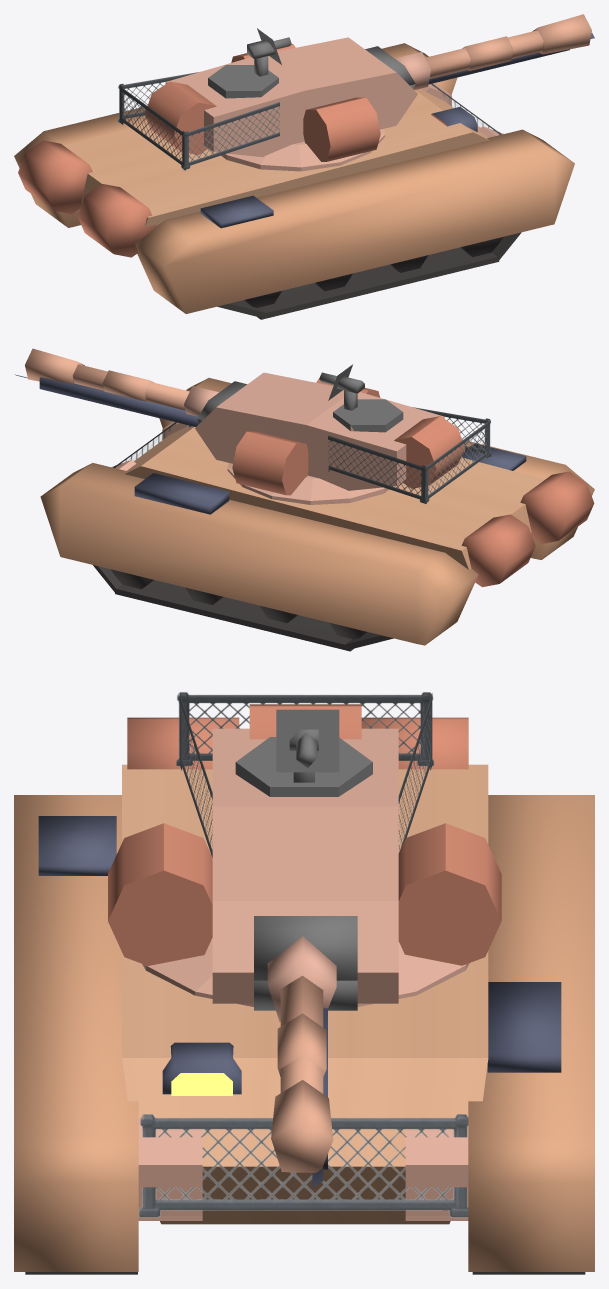
Rendered from helix.glb.
The picture shows the model from 3 angles, top to bottom: view 1: azimuth 30°, elevation 25°; view 2: azimuth 150°, elevation 25°; view 3: azimuth 270°, elevation 25°; orthographic projection. The views are drawn at different scales.
Visible parts, largest first — view 1: hull, turret, gun; view 2: hull, turret, gun; view 3: hull, turret, gun.
Part boxes in pixels (<box>): hull: <box>14,43,574,319</box>; turret: <box>118,28,430,171</box>; gun: <box>425,14,594,84</box>; hull: <box>40,378,594,651</box>; turret: <box>184,364,491,510</box>; gun: <box>15,348,199,426</box>; hull: <box>14,717,594,1274</box>; turret: <box>108,692,501,1021</box>; gun: <box>271,975,333,1187</box>.
Size of what is drawn, in the model's own units: 12.87 by 4.9 by 6.24.
Materials: 8 (2 with a texture image).
